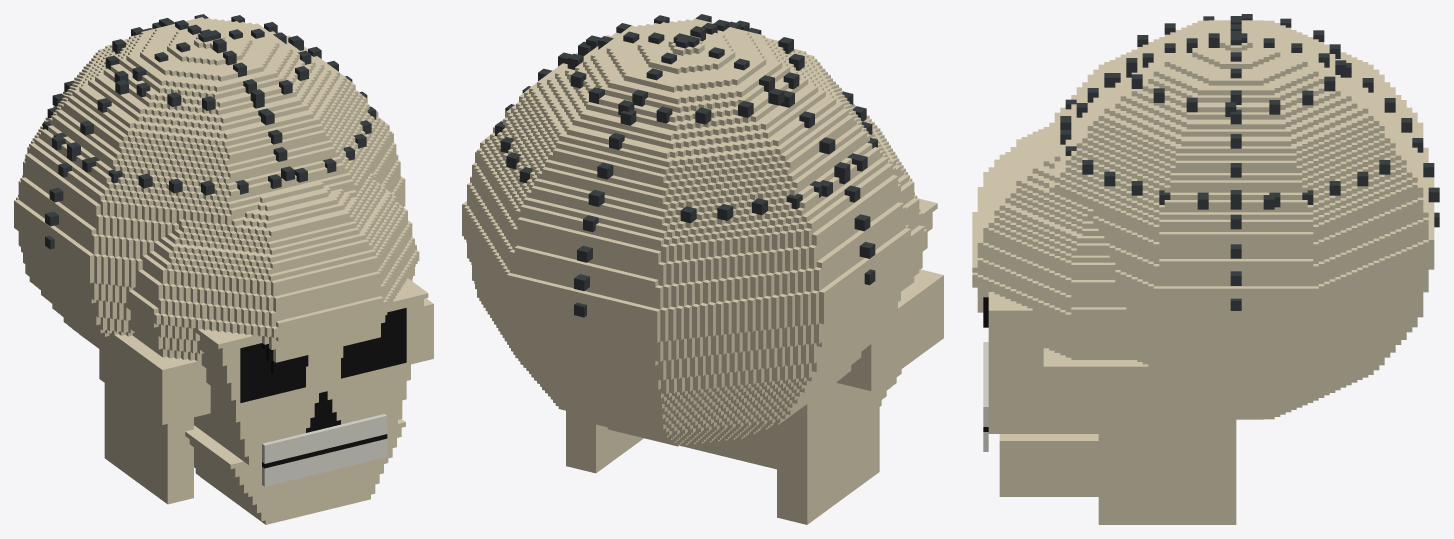
File: etched_skull.glb
3 renders of one model, left to right at view 1: azimuth 30°, elevation 25°; view 2: azimuth 150°, elevation 25°; view 3: azimuth 270°, elevation 25°, orthographic. The views are drawn at different scales.
Visible parts, largest first — view 1: etched_skull:compound; view 2: etched_skull:compound; view 3: etched_skull:compound.
Boxes of the visible parts, <box> form: etched_skull:compound: <box>14,14,433,524</box>; etched_skull:compound: <box>462,14,943,524</box>; etched_skull:compound: <box>972,14,1439,524</box>.
Size of the model in its own units: 0.148 by 0.174 by 0.17.
